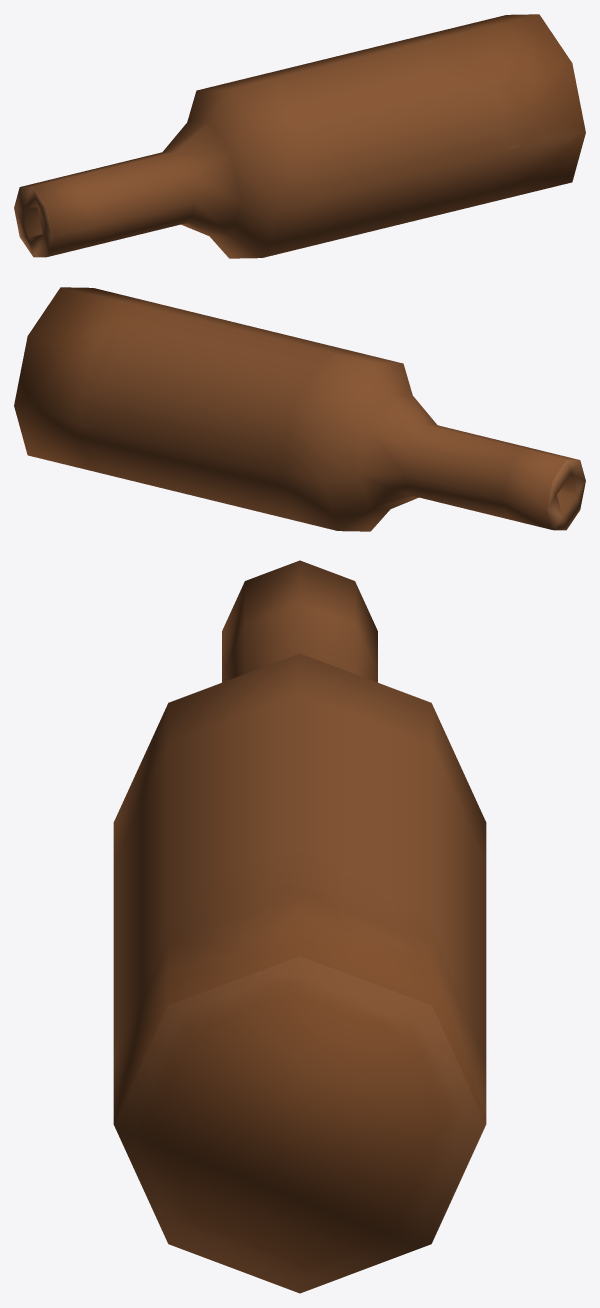
File: Bottle03.fbx
3 views of the same model, one above another, from view 1: azimuth 30°, elevation 25°; view 2: azimuth 150°, elevation 25°; view 3: azimuth 270°, elevation 25° (orthographic). The views are drawn at different scales.
Parts seen in each view (by area): view 1: Bottle_03; view 2: Bottle_03; view 3: Bottle_03.
Part boxes in pixels (x1,y1,x2,y2): Bottle_03: (14, 14, 585, 258); Bottle_03: (14, 287, 585, 531); Bottle_03: (113, 560, 486, 1293).
Bounding box in the file's own units: 0.2591 × 0.0826 × 0.0826.
1 material, 1 textured.
